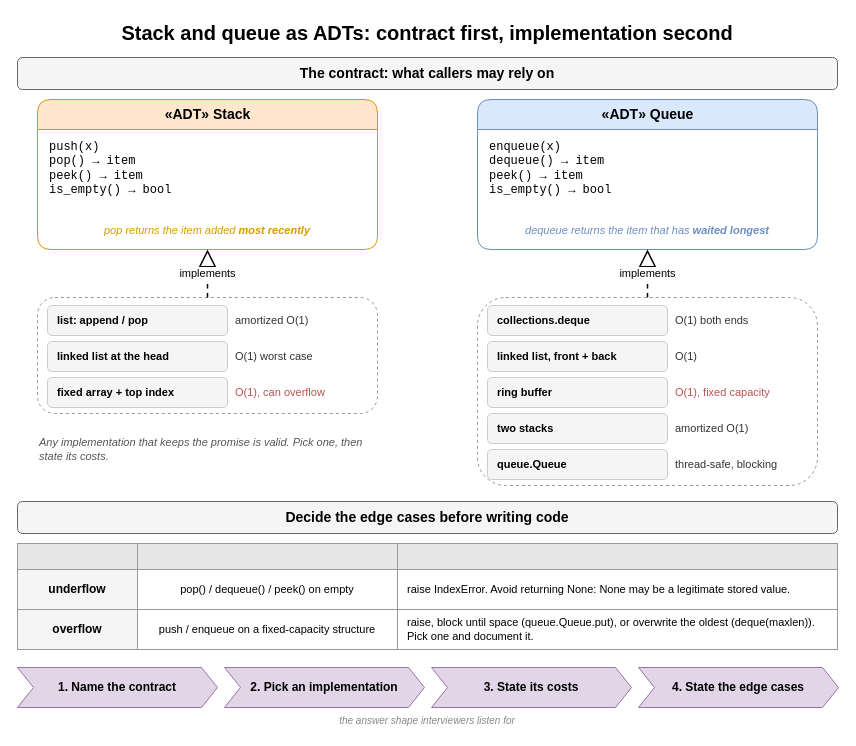
The diagram is 856 pixels wide and 746 high, and some of its shapes have lost their labels. The centre of each missing label's shape, as x and y in pixels:
"case" goes at (77,556).
"sensible choices" goes at (617,556).
"when" goes at (267,556).
